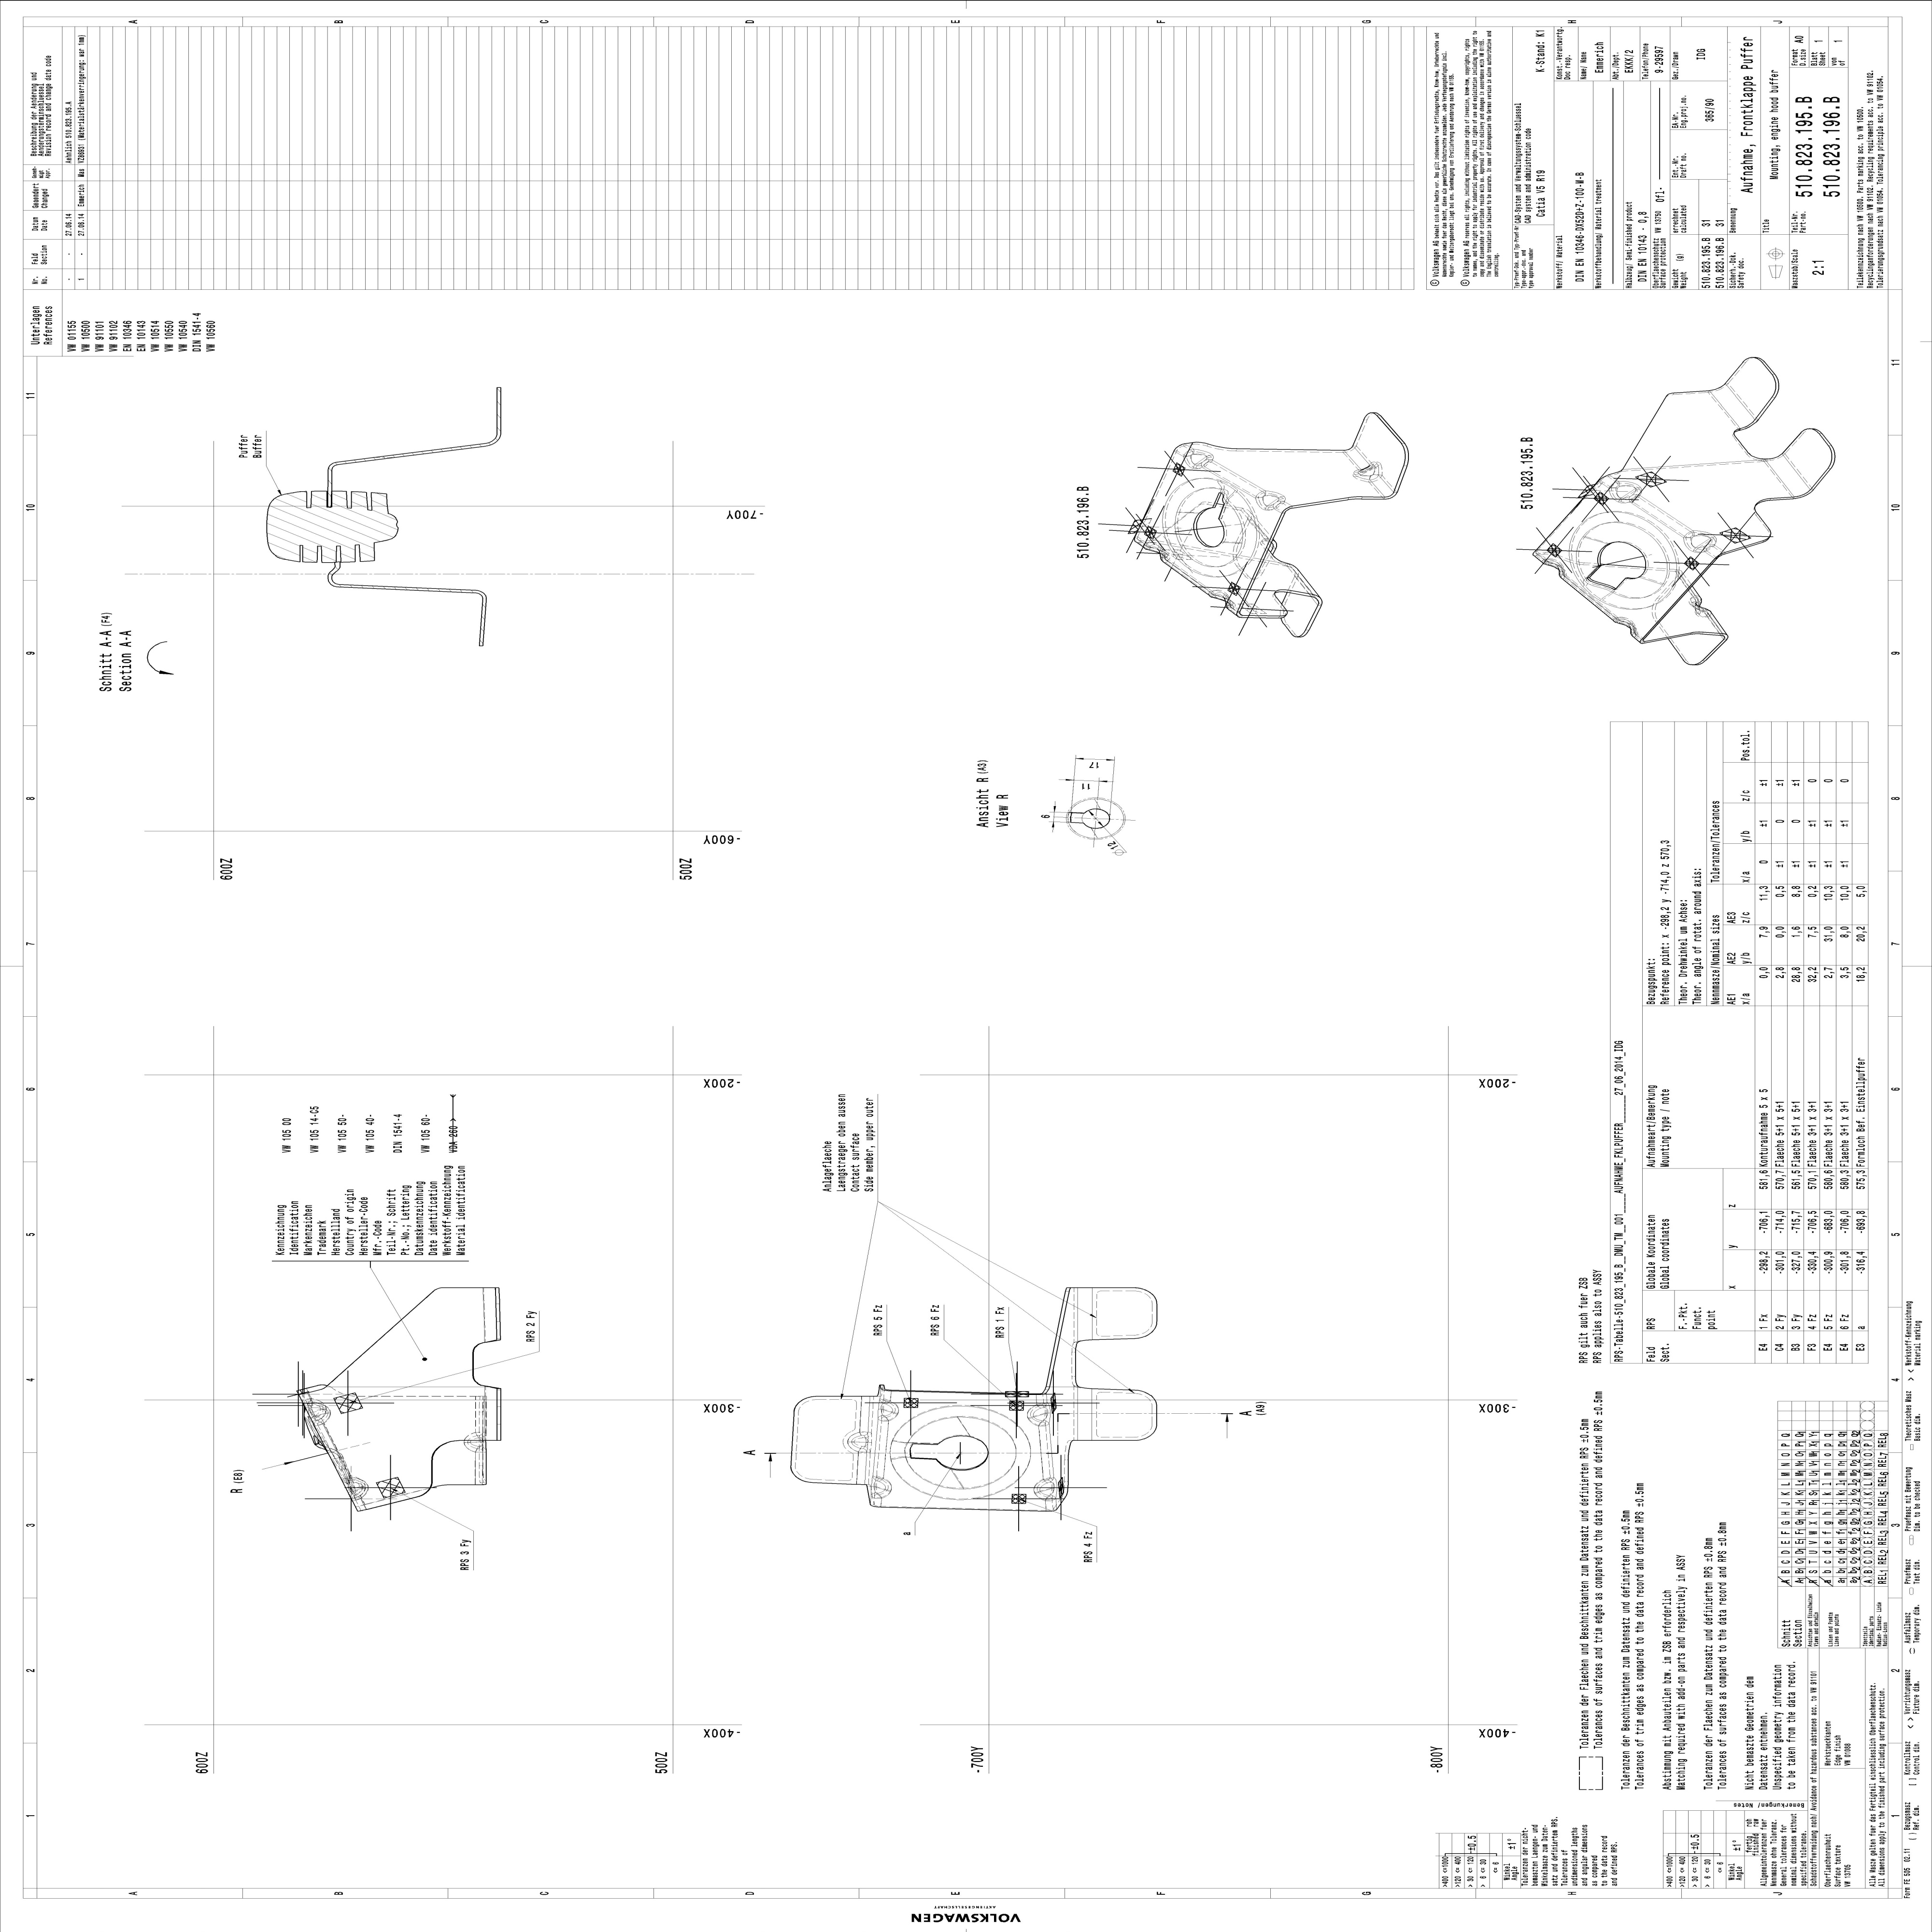BendingEdge: (1202, 456, 1262, 499), (1711, 383, 1756, 430), (1767, 452, 1809, 498), (315, 1424, 349, 1478), (1287, 562, 1325, 609), (1165, 559, 1211, 597), (872, 1419, 889, 1475), (1037, 1424, 1054, 1477), (482, 1289, 498, 1341), (1077, 1386, 1093, 1440), (1077, 1288, 1093, 1339), (483, 1387, 498, 1439), (1345, 445, 1371, 472), (1369, 473, 1393, 497), (1174, 440, 1195, 460), (859, 1396, 871, 1434), (474, 1396, 487, 1431), (855, 1453, 868, 1484), (475, 1451, 487, 1485), (1708, 614, 1726, 635), (1273, 497, 1290, 516), (325, 460, 340, 474), (325, 577, 341, 588), (477, 588, 488, 603), (489, 432, 502, 444)
Notch: (1724, 380, 1820, 472), (1075, 1335, 1156, 1393), (1564, 575, 1617, 620), (470, 1337, 502, 1393)
Reinforcement: (1251, 481, 1288, 517), (300, 1393, 335, 1430), (339, 1468, 373, 1505), (1351, 458, 1387, 489), (1612, 611, 1643, 639), (1541, 553, 1571, 582), (1207, 584, 1237, 612), (1683, 529, 1718, 554), (1608, 480, 1642, 504), (1687, 592, 1713, 622), (1144, 540, 1171, 565), (1182, 449, 1214, 470), (1026, 1402, 1052, 1427), (1033, 1477, 1058, 1502), (464, 1431, 489, 1453), (877, 1398, 900, 1422), (870, 1475, 892, 1500), (847, 1431, 870, 1453), (1226, 592, 1228, 593)
